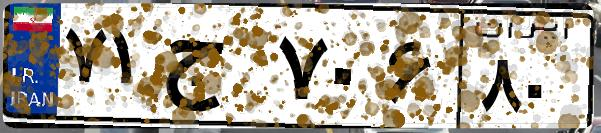0: (330, 28, 385, 110), (525, 38, 570, 115)
1: (110, 28, 158, 98)
6: (385, 28, 445, 110)
7: (270, 28, 330, 110), (57, 26, 110, 100)
8: (475, 38, 525, 113)
ج: (158, 20, 270, 120)
